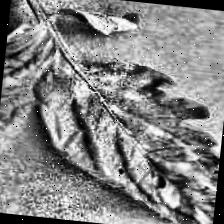leaf mold: (0, 32, 224, 224)
